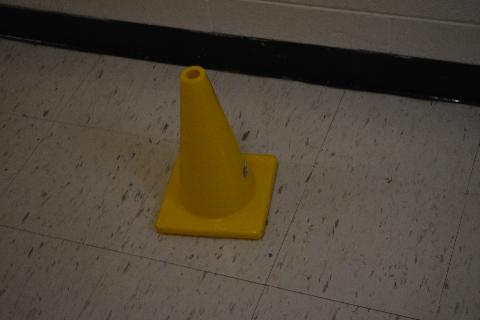cone: (154, 64, 280, 238)
